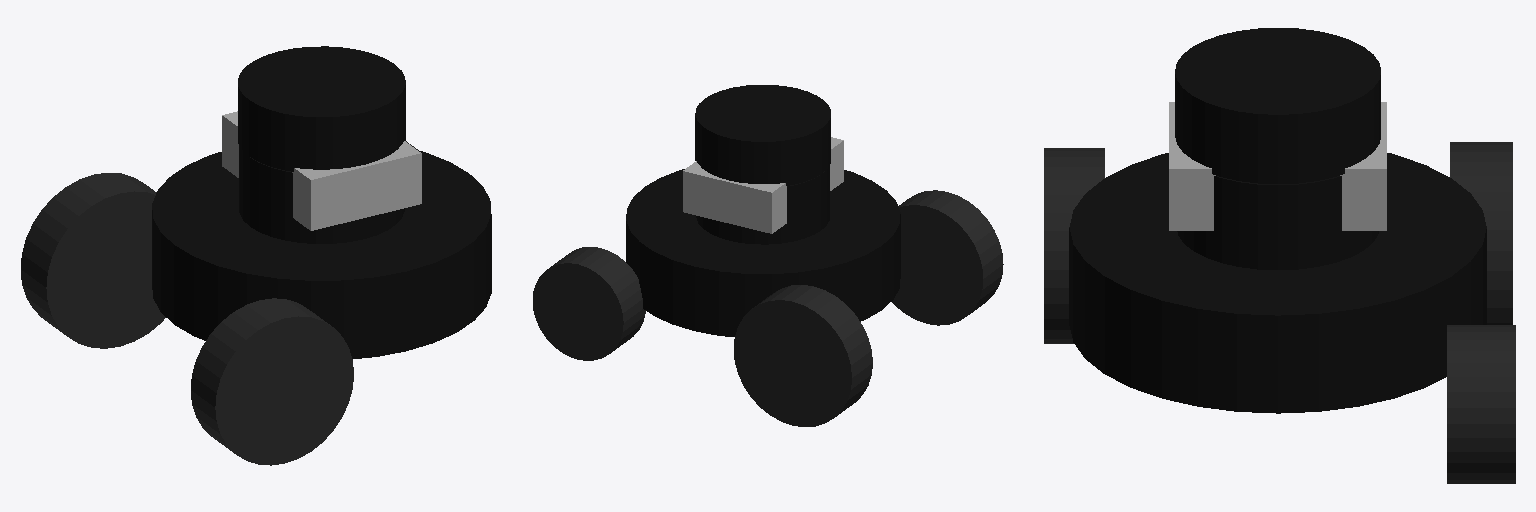
The robot description file, URDF, robot "evolved_robot":
<?xml version="1.0"?>
<robot name="evolved_robot">
  <material name="metal">
    <color rgba="0.7 0.7 0.7 1.0"/>
  </material>
  <material name="plastic">
    <color rgba="0.3 0.3 0.9 1.0"/>
  </material>
  <material name="rubber">
    <color rgba="0.1 0.1 0.1 1.0"/>
  </material>
  <material name="red">
    <color rgba="1.0 0.0 0.0 1.0"/>
  </material>
  <material name="wheel_material">
    <color rgba="0.2 0.2 0.2 1.0"/>
  </material>
  <link name="base_link">
    <visual>
      <geometry><cylinder radius="0.15577534863329562" length="0.08068832829829782"/></geometry>
      <material name="rubber"/>
    </visual>
    <collision>
      <geometry><cylinder radius="0.15577534863329562" length="0.08068832829829782"/></geometry>
    </collision>
    <inertial>
      <mass value="5.0"/>
      <inertia ixx="0.0660904033742069" ixy="0" ixz="0" 
               iyy="0.0660904033742069" iyz="0" 
               izz="0.12132979620912399"/>
    </inertial>
  </link>
  <link name="link1">
    <visual>
      <geometry><cylinder radius="0.07595597852159666" length="0.13990125952373855"/></geometry>
      <material name="rubber"/>
    </visual>
    <collision>
      <geometry><cylinder radius="0.07595597852159666" length="0.13990125952373855"/></geometry>
    </collision>
    <inertial>
      <mass value="0.5"/>
      <inertia ixx="0.0030733578696540177" ixy="0" ixz="0" 
               iyy="0.0030733578696540177" iyz="0" 
               izz="0.002884655336586627"/>
    </inertial>
  </link>
  <joint name="joint1" type="prismatic">
    <parent link="base_link"/>
    <child link="link1"/>
    <origin xyz="0 0 0.04034416414914891" rpy="0 0 0"/>
    <axis xyz="-0.7687004047399717 -0.3726816464324792 0.5198154270171098"/>
    <dynamics damping="0.7765132943335169" friction="0.1"/>
    <limit lower="-0.9820637054709622" upper="1.2717079639294546" effort="100" velocity="100"/>
  </joint>
  <link name="link2">
    <visual>
      <geometry>
        <cylinder radius="0.059609337803635254" length="0.05091720566736713"/>
      </geometry>
      <material name="wheel_material"/>
    </visual>
    <collision>
      <geometry>
        <cylinder radius="0.059609337803635254" length="0.05091720566736713"/>
      </geometry>
    </collision>
    <inertial>
      <mass value="1.0"/>
      <inertia ixx="0.0011043651077613883" ixy="0" ixz="0" 
               iyy="0.0011043651077613883" iyz="0" 
               izz="0.0017766365766939496"/>
    </inertial>
  </link>
  <joint name="joint2" type="continuous">
    <parent link="base_link"/>
    <child link="link2"/>
    <origin xyz="0.13985519542031713 0.15169550184627412 -0.04034416414914891" rpy="1.5708 0 0"/>
    <axis xyz="0 1 0"/>
    <dynamics damping="0.6237323492205411" friction="0.1"/>
  </joint>
  <link name="link3">
    <visual>
      <geometry><box size="0.11700741769070341 0.16271256421897745 0.05155470705773513"/></geometry>
      <material name="metal"/>
    </visual>
    <collision>
      <geometry><box size="0.11700741769070341 0.16271256421897745 0.05155470705773513"/></geometry>
    </collision>
    <inertial>
      <mass value="0.5"/>
      <inertia ixx="0.002427772197876979" ixy="0" ixz="0" 
               iyy="0.0013623853012046348" iyz="0" 
               izz="0.0033471761957801333"/>
    </inertial>
  </link>
  <joint name="joint3" type="prismatic">
    <parent link="base_link"/>
    <child link="link3"/>
    <origin xyz="0 0 0.09034416414914892" rpy="0 0 0"/>
    <axis xyz="0.32668620349102706 0.8356374459282342 -0.44157239883303046"/>
    <dynamics damping="0.8416399556546685" friction="0.1"/>
    <limit lower="-0.7345191566587939" upper="1.2169395730998822" effort="100" velocity="100"/>
  </joint>
  <link name="link4">
    <visual>
      <geometry>
        <cylinder radius="0.07749297053403384" length="0.047434120537869925"/>
      </geometry>
      <material name="wheel_material"/>
    </visual>
    <collision>
      <geometry>
        <cylinder radius="0.07749297053403384" length="0.047434120537869925"/>
      </geometry>
    </collision>
    <inertial>
      <mass value="1.0"/>
      <inertia ixx="0.0016887897698139238" ixy="0" ixz="0" 
               iyy="0.0016887897698139238" iyz="0" 
               izz="0.0030025802410943185"/>
    </inertial>
  </link>
  <joint name="joint4" type="continuous">
    <parent link="base_link"/>
    <child link="link4"/>
    <origin xyz="-0.13985519542031713 0.15169550184627412 -0.04034416414914891" rpy="1.5708 0 0"/>
    <axis xyz="0 1 0"/>
    <dynamics damping="0.4452985084493982" friction="0.1"/>
  </joint>
  <link name="link5">
    <visual>
      <geometry>
        <cylinder radius="0.07342839007796728" length="0.04546495489214325"/>
      </geometry>
      <material name="wheel_material"/>
    </visual>
    <collision>
      <geometry>
        <cylinder radius="0.07342839007796728" length="0.04546495489214325"/>
      </geometry>
    </collision>
    <inertial>
      <mass value="1.0"/>
      <inertia ixx="0.0015201872943059161" ixy="0" ixz="0" 
               iyy="0.0015201872943059161" iyz="0" 
               izz="0.002695864234721062"/>
    </inertial>
  </link>
  <joint name="joint5" type="continuous">
    <parent link="base_link"/>
    <child link="link5"/>
    <origin xyz="-0.13985519542031713 -0.15169550184627412 -0.04034416414914891" rpy="1.5708 0 0"/>
    <axis xyz="0 1 0"/>
    <dynamics damping="0.45649072620437836" friction="0.1"/>
  </joint>
  <link name="link6">
    <visual>
      <geometry><cylinder radius="0.07710931968884166" length="0.057188538743419545"/></geometry>
      <material name="rubber"/>
    </visual>
    <collision>
      <geometry><cylinder radius="0.07710931968884166" length="0.057188538743419545"/></geometry>
    </collision>
    <inertial>
      <mass value="0.5"/>
      <inertia ixx="0.0017590058760196293" ixy="0" ixz="0" 
               iyy="0.0017590058760196293" iyz="0" 
               izz="0.002972923591437992"/>
    </inertial>
  </link>
  <joint name="joint6" type="revolute">
    <parent link="base_link"/>
    <child link="link6"/>
    <origin xyz="0 0 0.1403441641491489" rpy="0 0 0"/>
    <axis xyz="0.0 -1.0 0.0"/>
    <dynamics damping="0.9137368393017369" friction="0.1"/>
    <limit lower="-1.3845749974452444" upper="1.049534739452294" effort="100" velocity="100"/>
  </joint>
</robot>

--- Render facts (derived) ---
3 views of the same robot in one strip: view 1: azimuth 30°, elevation 25°; view 2: azimuth 150°, elevation 25°; view 3: azimuth 270°, elevation 25° (orthographic).
Model evolved_robot with 7 links and 6 joints (1 revolute, 3 continuous, 2 prismatic), rooted at base_link, posed every joint at zero.
Links seen in each view (by area): view 1: base_link, link5, link4, link6, link3, link1; view 2: base_link, link4, link6, link5, link2, link3, link1; view 3: base_link, link6, link1, link2, link3, link4, link5.
Link boxes in pixels (x1,y1,x2,y2): base_link: (152,150,491,358); link5: (191,298,353,465); link4: (21,173,165,348); link6: (238,46,405,171); link3: (222,111,421,230); link1: (239,145,404,243); base_link: (626,169,900,336); link4: (734,285,872,426); link6: (695,85,830,185); link5: (892,190,1003,325); link2: (533,247,645,360); link3: (683,137,843,233); link1: (696,165,829,244); base_link: (1069,153,1486,413); link6: (1175,28,1380,183); link1: (1177,176,1378,269); link2: (1447,325,1515,483); link3: (1169,102,1386,230); link4: (1450,142,1512,324); link5: (1044,148,1104,343).
Bounding box of the posed robot: 0.4168 × 0.3516 × 0.2868 m (x, y, z).
Geometry: primitives only (box / cylinder / sphere), no mesh files.